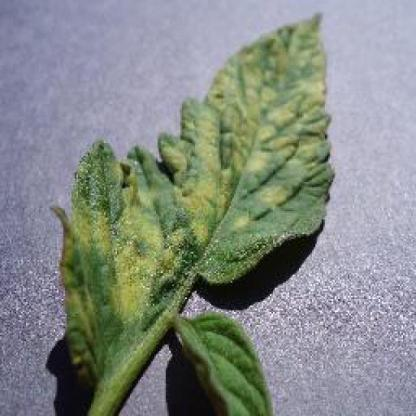Tomato_Leaf_Mold: (60, 13, 328, 371)
